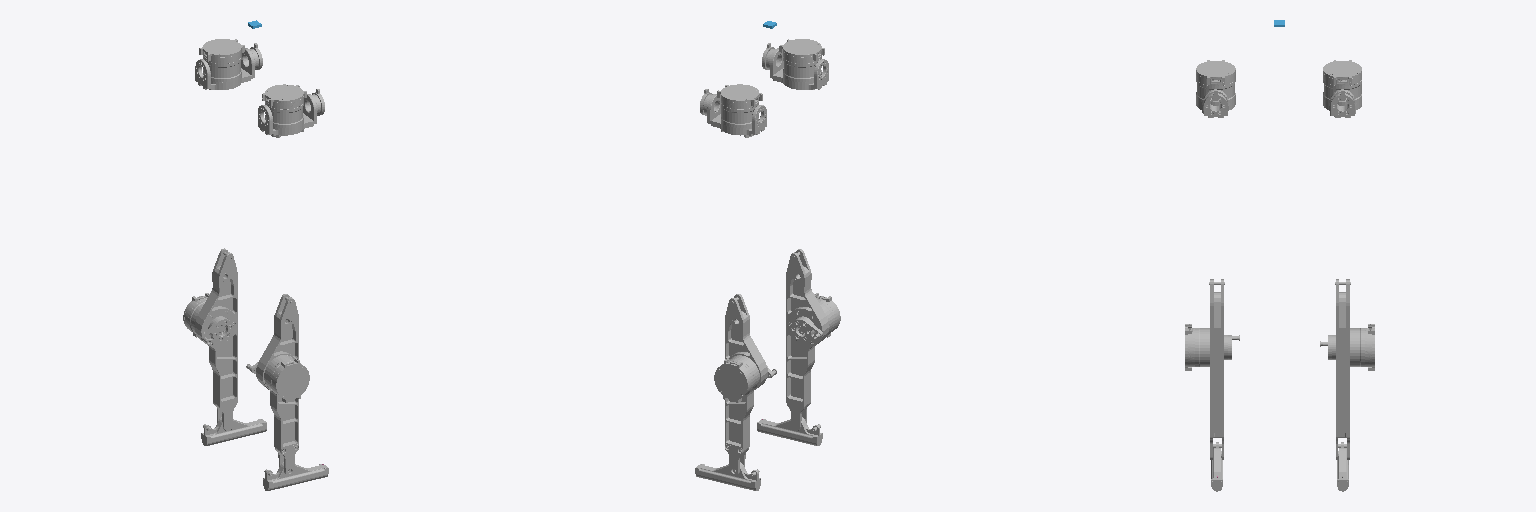
--- Render facts (derived) ---
Views: 3 orthographic renders of the robot side by side, from view 1: azimuth 30°, elevation 25°; view 2: azimuth 150°, elevation 25°; view 3: azimuth 270°, elevation 25°.
Model hunter with 16 links and 15 joints (10 revolute, 5 fixed), rooted at base_link, posed all joints at 0.
Visible links, largest first — view 1: leg_l4_link, leg_r4_link, leg_r1_link, leg_l1_link, leg_l5_link, leg_r5_link; view 2: leg_r4_link, leg_l4_link, leg_l1_link, leg_r1_link, leg_r5_link, leg_l5_link; view 3: leg_l4_link, leg_r4_link, leg_r1_link, leg_l1_link.
Link boxes in pixels (bbox=[...]): leg_l4_link: bbox=[183, 248, 237, 430]; leg_r4_link: bbox=[246, 294, 309, 475]; leg_r1_link: bbox=[258, 84, 324, 137]; leg_l1_link: bbox=[195, 39, 262, 89]; leg_l5_link: bbox=[201, 417, 266, 445]; leg_r5_link: bbox=[263, 462, 328, 490]; leg_r4_link: bbox=[786, 249, 840, 430]; leg_l4_link: bbox=[714, 294, 776, 475]; leg_l1_link: bbox=[700, 84, 766, 137]; leg_r1_link: bbox=[762, 39, 828, 89]; leg_r5_link: bbox=[757, 417, 822, 445]; leg_l5_link: bbox=[695, 462, 760, 490]; leg_l4_link: bbox=[1320, 279, 1374, 459]; leg_r4_link: bbox=[1185, 279, 1239, 459]; leg_r1_link: bbox=[1196, 60, 1235, 117]; leg_l1_link: bbox=[1323, 60, 1361, 117].
Bounding box of the posed robot: 0.115 × 0.269 × 0.7028 m (x, y, z).
6 mesh visuals loaded from 11 distinct referenced files (6 binary STL); not drawn: 5 (reference not matched to a file when rendering).

URDF robot description (hunter):
<?xml version="1.0" encoding="utf-8"?>
<robot name="hunter">

  <!-- <link name="world" />
  <joint name ="weld" type="fixed">
    <parent link="world"/>
    <child link="base_link"/>
    <origin xyz="0 0 0.1"/>
  </joint> -->

  <gazebo>
    <plugin name="gazebo_ros_control" filename="libhunter_bipedal_hw_sim.so">
      <robotNamespace>/</robotNamespace>
      <robotParam>legged_robot_description</robotParam>
      <robotSimType>legged_gazebo/LeggedHWSim</robotSimType>
    </plugin>
  </gazebo>

  <gazebo>
    <plugin filename="libgazebo_ros_p3d.so" name="p3d_base_controller">
      <alwaysOn>true</alwaysOn>
      <updateRate>500.0</updateRate>
      <bodyName>base_link</bodyName>
      <topicName>ground_truth/state</topicName>
      <gaussianNoise>0</gaussianNoise>
      <frameName>world</frameName>
      <xyzOffsets>0 0 0</xyzOffsets>
      <rpyOffsets>0 0 0</rpyOffsets>
    </plugin>
  </gazebo>

  <link name="base_link">
    <inertial>
      <origin xyz="-0.010856 -0.000068 -0.007128" rpy="0 0 0" />
      <mass value="5.673631" />  
      <inertia ixx="0.034403" ixy="0.000004" ixz="-0.002587" iyy="0.029652" iyz="0.000024" izz="0.029462" />
    </inertial>
    <visual>
      <origin xyz="0 0 0" rpy="0 0 0" />
      <geometry>
        <mesh 
        filename="package://legged_hunter_description/meshes/base_link.STL" />
      </geometry>
      <material name="">
        <color rgba="0.75294 0.75294 0.75294 1" />
      </material>
    </visual>
    <collision>
      <origin xyz="-0.01 0 -0.006" rpy="0 0 0" />
      <geometry>
        <box size="0.184 0.15 0.2" /><!--宽 长 高!-->
      </geometry>
    </collision>
  </link>

  <!-- Imu is fixed to the base link -->
  <joint name="imu_joint" type="fixed">
    <origin rpy="0. 0. 0." xyz="0. 0. 0"/>
    <parent link="base_link"/>
    <child link="imu_link"/>
  </joint>
  <!-- Imu link -->
  <link name="imu_link">
    <inertial>
      <mass value="0.01"/>
      <origin rpy="0 0 0" xyz="0 0 0"/>
      <inertia ixx="0.000001" ixy="0" ixz="0" iyy="0.000001" iyz="0" izz="0.000001"/>
    </inertial>
    <visual>
      <origin rpy="0 0 0" xyz="0 0 0"/>
      <geometry>
        <box size="0.015 0.015 0.004"/>
      </geometry>
    </visual>
    <material name="orange">
      <color rgba="255 108 10 255"/>
    </material>
  </link>
  <gazebo reference="imu_joint">
    <disableFixedJointLumping>true</disableFixedJointLumping>
  </gazebo>

  <!-- ************************************************************ -->
  <!-- ************************ Left Leg ************************** -->
  <!-- ************************************************************ -->

  <!-- ************* part 1 *************** -->
  <joint name="leg_l1_joint" type="revolute">
    <origin xyz="-0.002 0.09 -0.1035" rpy="0 0 0" />
    <parent link="base_link" />
    <child link="leg_l1_link" />
    <axis xyz="1 0 0" />
    <dynamics damping="0.00" friction="0.2"/>
    <limit lower="-0.2" upper="0.5" effort="23.7" velocity="30.1" />
  </joint>
  <link name="leg_l1_link">
    <inertial>
      <origin xyz="0.002501 0.000053 -0.002722" rpy="0 0 0" />
      <mass value="0.453728" />
      <inertia ixx="0.000082" ixy="0.000000" ixz="0.000003" iyy="0.000163" iyz="0.000001" izz="0.000147" />
    </inertial>
    <visual>
      <origin xyz="0 0 0" rpy="0 0 0" />
      <geometry>
        <mesh filename="package://legged_hunter_description/meshes/leg_l1_link.STL" />
      </geometry>
      <material name="">
        <color rgba="0.75294 0.75294 0.75294 1" />
      </material>
    </visual>
    <collision>
      <origin xyz="-0.019 -0.001 0" rpy="1.57 0 1.57" />
      <geometry>
        <box size="0.06 0.07 0.155" />
      </geometry>
    </collision>
  </link>

  <!-- ************* part 2 *************** -->
  <joint name="leg_l2_joint" type="revolute">
    <origin xyz="0 -0.00016972 -0.0325" rpy="0 0 0" />
    <parent link="leg_l1_link" />
    <child link="leg_l2_link" />
    <axis xyz="0 0 1" />
    <dynamics damping="0.00" friction="0.2"/>
    <limit lower="-0.5" upper="1" effort="23.7" velocity="30.1" />
  </joint>
  <link name="leg_l2_link">
    <inertial>
     <origin xyz="-0.000273 0.043826 -0.058639" rpy="0 0 0" />
      <mass value="0.925998" />
      <inertia ixx="0.001239" ixy="0.000004" ixz="0.000000" iyy="0.001646" iyz="0.000103" izz="0.001094" />
    </inertial>
    <visual>
      <origin xyz="0 0 0" rpy="0 0 0" />
      <geometry>
        <mesh filename="package://legged_hunter_description/meshes/leg_l2_link.STL" />
      </geometry>
      <material name="">
        <color rgba="0.75294 0.75294 0.75294 1" />
      </material>
    </visual>
    <collision>
      <origin xyz="0 0.0046 -0.057" rpy="1.57 0 0" />
      <geometry>
        <cylinder length="0.146" radius="0.065"/>
      </geometry>
    </collision>
  </link>

  <!-- ************* part 3 *************** -->
  <joint name="leg_l3_joint" type="revolute">
    <origin xyz="0 -0.01433 -0.0575" rpy="0 0 0" />
    <parent link="leg_l2_link" />
    <child link="leg_l3_link" />
    <axis xyz="0 -1 0" />
    <dynamics damping="0.00" friction="0.2"/>
    <limit lower="-0.8" upper="1.2" effort="23.7" velocity="30.1" />
  </joint>
  <link name="leg_l3_link">
    <inertial>
     <origin xyz="0.003163 -0.022552 -0.027258" rpy="0 0 0" />
      <mass value="1.390468" />
      <inertia ixx="0.006911" ixy="-0.000091" ixz="0.000427" iyy="0.007083" iyz="0.000844" izz="0.001984" />
    </inertial>
    <visual>
      <origin xyz="0 0 0" rpy="0 0 0" />
      <geometry>
        <mesh filename="package://legged_hunter_description/meshes/leg_l3_link.STL" />
      </geometry>
      <material name="">
        <color rgba="0.75294 0.75294 0.75294 1" />
      </material>
    </visual>
    <collision>
      <origin xyz="0.015 0.02 -0.1" rpy="1.57 0 0" />
      <geometry>
        <box size="0.06 0.25 0.05" />
      </geometry>
    </collision>
  </link>

  <!-- ************* part 4 *************** -->
  <joint name="leg_l4_joint" type="revolute">
    <origin xyz="0 0.0145 -0.24" rpy="0 0 0" />
    <parent link="leg_l3_link" />
    <child link="leg_l4_link" />
    <axis xyz="0 1 0" />
    <dynamics damping="0.00" friction="0.2"/>
    <limit lower="0" upper="1.5" effort="23.7" velocity="30.1" />
  </joint>
  <link name="leg_l4_link">
    <inertial>
      <origin xyz="-0.012044 0.006361 -0.093905" rpy="0 0 0" />
      <mass value="0.649518" />
      <inertia ixx="0.002176" ixy="-0.000020" ixz="-0.000273" iyy="0.002460" iyz="-0.000095" izz="0.000478" />
    </inertial>
    <visual>
      <origin xyz="0 0 0" rpy="0 0 0" />
      <geometry>
        <mesh filename="package://legged_hunter_description/meshes/leg_l4_link.STL" />
      </geometry>
      <material name="">
        <color rgba="0.75294 0.75294 0.75294 1" />
      </material>
    </visual>
    <collision>
      <origin xyz="0 0 -0.105" rpy="1.57 0 0" />
      <geometry>
        <box size="0.041 0.25 0.03" />
      </geometry>
    </collision>
    <collision>
      <origin xyz="-0.011 0.012 -0.079" rpy="1.57 0 0" />
      <geometry>
        <cylinder length="0.07" radius="0.034"/>
      </geometry>
    </collision>
  </link>

  <!-- ************* part 5 *************** -->
  <joint name="leg_l5_joint" type="revolute">
    <origin xyz="0.005 0 -0.23995" rpy="0 0 0" />
    <parent link="leg_l4_link" />
    <child link="leg_l5_link" />
    <axis xyz="0 -1 0" />
    <dynamics damping="0.00" friction="0.2"/>
    <limit lower="-1.1" upper="1.1" effort="23.7" velocity="30.1" />
  </joint>
  <link name="leg_l5_link">
    <inertial>
      <origin xyz="0.012435 0.000000 -0.015511" rpy="0 0 0" />
      <mass value="0.030265" />
      <inertia ixx="0.000002" ixy="0.000000" ixz="0.000001" iyy="0.000025" iyz="0.000000" izz="0.000024" />
    </inertial>
    <visual>
      <origin xyz="0 0 0" rpy="0 0 0" />
      <geometry>
        <mesh filename="package://legged_hunter_description/meshes/leg_l5_link.STL" />
      </geometry>
      <material name="">
        <color rgba="0.75294 0.75294 0.75294 1" />
      </material>
    </visual>
    <collision>
      <origin xyz="0.01503 0 -0.0102" rpy="1.57 0 0" />
      <geometry>
        <box size="0.1001 0.0345 0.0175" />
      </geometry>
    </collision>
  </link>

  <joint name="leg_l5_fixed_1" type="fixed">
    <origin xyz="0.06 0 -0.007" rpy="0 0 0" />
    <parent link="leg_l5_link" />
    <child link="leg_l_f1_link" />
  </joint>
  <link name="leg_l_f1_link">
    <inertial>
      <mass value="0.01" />
      <inertia ixx="0.000001" ixy="0" ixz="0" iyy="0.000001" iyz="0" izz="0.000001" />
    </inertial>
    <visual>
      <origin rpy="0 0 0" xyz="0 0 0"/>
      <geometry>
        <sphere radius="0.001"/>
      </geometry>
    </visual>
    <collision>
      <origin rpy="0 0 0" xyz="0 0 0"/>
      <geometry>
        <sphere radius="0.001"/>
      </geometry>
    </collision>
  </link>

  <joint name="leg_l5_fixed_2" type="fixed">
    <origin xyz="-0.030 0 -0.007" rpy="0 0 0" />
    <parent link="leg_l5_link" />
    <child link="leg_l_f2_link" />
  </joint>
  <link name="leg_l_f2_link">
    <inertial>
      <mass value="0.01" />
      <inertia ixx="0.000001" ixy="0" ixz="0" iyy="0.000001" iyz="0" izz="0.000001" />
    </inertial>
    <visual>
      <origin rpy="0 0 0" xyz="0 0 0"/>
      <geometry>
        <sphere radius="0.001"/>
      </geometry>
    </visual>
    <collision>
      <origin rpy="0 0 0" xyz="-0 0 0"/>
      <geometry>
        <sphere radius="0.001"/>
      </geometry>
    </collision>
  </link>

  <gazebo reference="leg_l1_link">
    <mu1>0.6</mu1>
    <mu2>0.6</mu2>
    <self_collide>1</self_collide>
  </gazebo>
  <gazebo reference="leg_l2_link">
    <mu1>0.6</mu1>
    <mu2>0.6</mu2>
    <self_collide>1</self_collide>
  </gazebo>
  <gazebo reference="leg_l3_link">
    <mu1>0.6</mu1>
    <mu2>0.6</mu2>
    <self_collide>1</self_collide>
  </gazebo>
  <gazebo reference="leg_l4_link">
    <mu1>0.6</mu1>
    <mu2>0.6</mu2>
    <self_collide>1</self_collide>
  </gazebo>
  <gazebo reference="leg_l5_link">
    <mu1>1.5</mu1>
    <mu2>1.5</mu2>
    <self_collide>1</self_collide>
    <kp value="1000000.0"/>
    <kd value="100.0"/>
    <maxVel>1.0</maxVel>
    <minDepth>0.00</minDepth>
  </gazebo>
  <gazebo reference="leg_l_f1_link">
    <mu1>1.5</mu1>
    <mu2>1.5</mu2>
    <self_collide>1</self_collide>
    <kp value="1000000.0"/>
    <kd value="100.0"/>
    <maxVel>1.0</maxVel>
    <minDepth>0.00</minDepth>
  </gazebo>
  <gazebo reference="leg_l_f2_link">
    <mu1>1.5</mu1>
    <mu2>1.5</mu2>
    <self_collide>1</self_collide>
    <kp value="1000000.0"/>
    <kd value="100.0"/>
    <maxVel>1.0</maxVel>
    <minDepth>0.00</minDepth>
  </gazebo>

  <transmission name="leg_l1_tran">
    <type>transmission_interface/SimpleTransmission</type>
    <joint name="leg_l1_joint">
      <hardwareInterface>hardware_interface/EffortJointInterface</hardwareInterface>
    </joint>
    <actuator name="leg_l1_motor">
      <hardwareInterface>hardware_interface/EffortJointInterface</hardwareInterface>
      <mechanicalReduction>1</mechanicalReduction>
    <maxVelocity>1.484</maxVelocity><!-- 85rpm -->
	  <maxEffort>36.0</maxEffort><!-- 36Nm -->
    </actuator>
  </transmission>

  <transmission name="leg_l2_tran">
    <type>transmission_interface/SimpleTransmission</type>
    <joint name="leg_l2_joint">
      <hardwareInterface>hardware_interface/EffortJointInterface</hardwareInterface>
    </joint>
    <actuator name="leg_l2_motor">
      <hardwareInterface>hardware_interface/EffortJointInterface</hardwareInterface>
      <mechanicalReduction>1</mechanicalReduction>
    <maxVelocity>2.6545</maxVelocity><!-- 160rpm -->
	  <maxEffort>94.0</maxEffort><!-- 94Nm -->
    </actuator>
  </transmission>

  <transmission name="leg_l3_tran">
    <type>transmission_interface/SimpleTransmission</type>
    <joint name="leg_l3_joint">
      <hardwareInterface>hardware_interface/EffortJointInterface</hardwareInterface>
    </joint>
    <actuator name="leg_l3_motor">
      <hardwareInterface>hardware_interface/EffortJointInterface</hardwareInterface>
      <mechanicalReduction>1</mechanicalReduction>
    <maxVelocity>2.6545</maxVelocity><!-- 160rpm -->
	  <maxEffort>94.0</maxEffort><!-- 94Nm -->
    </actuator>
  </transmission>

  <transmission name="leg_l4_tran">
    <type>transmission_interface/SimpleTransmission</type>
    <joint name="leg_l4_joint">
      <hardwareInterface>hardware_interface/EffortJointInterface</hardwareInterface>
    </joint>
    <actuator name="leg_l4_motor">
      <hardwareInterface>hardware_interface/EffortJointInterface</hardwareInterface>
      <mechanicalReduction>1</mechanicalReduction>
    <maxVelocity>1.484</maxVelocity><!-- 85rpm -->
	<maxEffort>36.0</maxEffort><!-- 36Nm -->
    </actuator>
  </transmission>

  <transmission name="leg_l5_tran">
    <type>transmission_interface/SimpleTransmission</type>
    <joint name="leg_l5_joint">
      <hardwareInterface>hardware_interface/EffortJointInterface</hardwareInterface>
    </joint>
    <actuator name="leg_l5_motor">
      <hardwareInterface>hardware_interface/EffortJointInterface</hardwareInterface>
      <mechanicalReduction>1</mechanicalReduction>
    </actuator>
  </transmission>
  <!-- ************************************************************ -->
  <!-- ************************ Right Leg ************************** -->
  <!-- ************************************************************ -->

  <!-- ************* part 1 *************** -->
  <joint name="leg_r1_joint" type="revolute">
    <origin xyz="-0.002 -0.09 -0.1035" rpy="0 0 0" />
    <parent link="base_link" />
    <child link="leg_r1_link" />
    <axis xyz="1 0 0" />
    <dynamics damping="0.00" friction="0.2"/>
    <limit lower="-0.5" upper="0.2" effort="23.7" velocity="30.1" />
  </joint>
  <link name="leg_r1_link">
    <inertial>
      <origin xyz="0.002501 -0.000053 -0.002722" rpy="0 0 0" />
      <mass value="0.453728" />
      <inertia ixx="0.000082" ixy="0.000000" ixz="0.000003" iyy="0.000163" iyz="-0.000001" izz="0.000147" />
    </inertial>
    <visual>
      <origin xyz="0 0 0" rpy="0 0 0" />
      <geometry>
        <mesh filename="package://legged_hunter_description/meshes/leg_r1_link.STL" />
      </geometry>
      <material name="">
        <color rgba="0.75294 0.75294 0.75294 1" />
      </material>
    </visual>
    <collision>
      <origin xyz="-0.019 -0.001 0" rpy="1.57 0 1.57" />
      <geometry>
        <box size="0.06 0.07 0.155" />
      </geometry>
    </collision>
  </link>

  <!-- ************* part 2 *************** -->
  <joint name="leg_r2_joint" type="revolute">
    <origin xyz="0 0.00016972 -0.0325" rpy="0 0 0" />
    <parent link="leg_r1_link" />
    <child link="leg_r2_link" />
    <axis xyz="0 0 1" />
    <dynamics damping="0.00" friction="0.2"/>
    <limit lower="-1" upper="0.5" effort="23.7" velocity="30.1" />
  </joint>
  <link name="leg_r2_link">
    <inertial>
     <origin xyz="0.000090 -0.043826 -0.058639" rpy="0 0 0" />
      <mass value="0.925998" />
      <inertia ixx="0.001239" ixy="0.000004" ixz="0.000000" iyy="0.001646" iyz="0.000103" izz="0.001094" />
    </inertial>
    <visual>
      <origin xyz="0 0 0" rpy="0 0 0" />
      <geometry>
        <mesh filename="package://legged_hunter_description/meshes/leg_r2_link.STL" />
      </geometry>
      <material name="">
        <color rgba="0.75294 0.75294 0.75294 1" />
      </material>
    </visual>
    <collision>
      <origin xyz="0 -0.0033 -0.057" rpy="1.57 0 0" />
      <geometry>
        <cylinder length="0.146" radius="0.065"/>
      </geometry>
    </collision>
  </link>

  <!-- ************* part 3 *************** -->
  <joint name="leg_r3_joint" type="revolute">
    <origin xyz="0 0.01633 -0.0575" rpy="0 0 0" />
    <parent link="leg_r2_link" />
    <child link="leg_r3_link" />
    <axis xyz="0 1 0" />
    <dynamics damping="0.00" friction="0.2"/>
    <limit lower="-1.2" upper="0.8" effort="23.7" velocity="30.1" />
  </joint>
  <link name="leg_r3_link">
    <inertial>
     <origin xyz="0.003311 0.022650 -0.027271" rpy="0 0 0" />
      <mass value="1.388625" />
      <inertia ixx="0.006909" ixy="0.000095" ixz="0.000421" iyy="0.007083" iyz="-0.000850" izz="0.001984" />
    </inertial>
    <visual>
      <origin xyz="0 0 0" rpy="0 0 0" />
      <geometry>
        <mesh filename="package://legged_hunter_description/meshes/leg_r3_link.STL" />
      </geometry>
      <material name="">
        <color rgba="0.75294 0.75294 0.75294 1" />
      </material>
    </visual>
    <collision>
      <origin xyz="0.015 -0.02 -0.1" rpy="1.57 0 0" />
      <geometry>
        <box size="0.06 0.25 0.05" />
      </geometry>
    </collision>
  </link>

  <!-- ************* part 4 *************** -->
  <joint name="leg_r4_joint" type="revolute">
    <origin xyz="0 -0.0145 -0.24" rpy="0 0 0" />
    <parent link="leg_r3_link" />
    <child link="leg_r4_link" />
   <axis xyz="0 1 0" />
   <dynamics damping="0.00" friction="0.2"/>
    <limit lower="0" upper="1.5" effort="23.7" velocity="30.1" />
  </joint>
  <link name="leg_r4_link">
    <inertial>
       <origin xyz="-0.007886 -0.007123 -0.088091" rpy="0 0 0" />
      <mass value="0.614720" />
      <inertia ixx="0.001761" ixy="-0.000006" ixz="0.000012" iyy="0.001774" iyz="0.000063" izz="0.000186" />
    </inertial>
    <visual>
      <origin xyz="0 0 0" rpy="0 0 0" />
      <geometry>
        <mesh filename="package://legged_hunter_description/meshes/leg_r4_link.STL" />
      </geometry>
      <material name="">
        <color rgba="0.75294 0.75294 0.75294 1" />
      </material>
    </visual>
    <collision>
      <origin xyz="0 0 -0.105" rpy="1.57 0 0" />
      <geometry>
        <box size="0.041 0.25 0.03" />
      </geometry>
    </collision>
    <collision>
      <origin xyz="-0.011 -0.012 -0.079" rpy="1.57 0 0" />
      <geometry>
        <cylinder length="0.07" radius="0.034"/>
      </geometry>
    </collision>
  </link>

  <!-- ************* part 5 *************** -->
  <joint name="leg_r5_joint" type="revolute">
    <origin xyz="0.005 0 -0.23995" rpy="0 0 0" />
    <parent link="leg_r4_link" />
    <child link="leg_r5_link" />
    <axis xyz="0 1 0" />
    <dynamics damping="0.00" friction="0.2"/>
    <limit lower="-1.1" upper="1.1" effort="23.7" velocity="30.1" />
  </joint>
  <link name="leg_r5_link">
    <inertial>
      <origin xyz="0.012435 -0.000500 -0.015511" rpy="0 0 0" />
      <mass value="0.030265" />
      <inertia ixx="0.000002" ixy="0.000000" ixz="0.000001" iyy="0.000025" iyz="0.000000" izz="0.000024" />
    </inertial>
    <visual>
      <origin xyz="0 0 0" rpy="0 0 0" />
      <geometry>
        <mesh filename="package://legged_hunter_description/meshes/leg_r5_link.STL" />
      </geometry>
      <material name="">
        <color rgba="0.75294 0.75294 0.75294 1" />
      </material>
    </visual>
    <collision>
      <origin xyz="0.01503 0 -0.0102" rpy="1.57 0 0" />
      <geometry>
        <box size="0.1001 0.0345 0.0175" />
        </geometry>
    </collision>
  </link>

  <joint name="leg_r5_fixed_1" type="fixed">
    <origin xyz="0.06 0 -0.007" rpy="0 0 0" />
    <parent link="leg_r5_link" />
    <child link="leg_r_f1_link" />
  </joint>
  <link name="leg_r_f1_link">
    <inertial>
      <mass value="0.01" />
      <inertia ixx="0.000001" ixy="0" ixz="0" iyy="0.000001" iyz="0" izz="0.000001" />
    </inertial>
    <visual>
      <origin rpy="0 0 0" xyz="0 0 0"/>
      <geometry>
        <sphere radius="0.001"/>
      </geometry>
    </visual>
    <collision>
      <origin rpy="0 0 0" xyz="0 0 0"/>
      <geometry>
        <sphere radius="0.001"/>
      </geometry>
    </collision>
  </link>

  <joint name="leg_r5_fixed_2" type="fixed">
    <origin xyz="-0.030 0 -0.007" rpy="0 0 0" />
    <parent link="leg_r5_link" />
    <child link="leg_r_f2_link" />
  </joint>
  <link name="leg_r_f2_link">
    <inertial>
      <mass value="0.01" />
      <inertia ixx="0.000001" ixy="0" ixz="0" iyy="0.000001" iyz="0" izz="0.000001" />
    </inertial>
    <visual>
      <origin rpy="0 0 0" xyz="0 0 0"/>
      <geometry>
        <sphere radius="0.001"/>
      </geometry>
    </visual>
    <collision>
      <origin rpy="0 0 0" xyz="0 0 0"/>
      <geometry>
        <sphere radius="0.001"/>
      </geometry>
    </collision>
  </link>

  <gazebo reference="leg_r1_link">
    <mu1>0.6</mu1>
    <mu2>0.6</mu2>
    <self_collide>1</self_collide>
  </gazebo>
  <gazebo reference="leg_r2_link">
    <mu1>0.6</mu1>
    <mu2>0.6</mu2>
    <self_collide>1</self_collide>
  </gazebo>
  <gazebo reference="leg_r3_link">
    <mu1>0.6</mu1>
    <mu2>0.6</mu2>
    <self_collide>1</self_collide>
  </gazebo>
  <gazebo reference="leg_r4_link">
    <mu1>0.6</mu1>
    <mu2>0.6</mu2>
    <self_collide>1</self_collide>
  </gazebo>
  <gazebo reference="leg_r5_link">
    <mu1>1.5</mu1>
    <mu2>1.5</mu2>
    <self_collide>1</self_collide>
    <kp value="1000000.0"/>
    <kd value="100.0"/>
    <maxVel>1.0</maxVel>
    <minDepth>0.00</minDepth>
  </gazebo>
  <gazebo reference="leg_r_f1_link">
    <mu1>1.5</mu1>
    <mu2>1.5</mu2>
    <self_collide>1</self_collide>
    <kp value="1000000.0"/>
    <kd value="100.0"/>
    <maxVel>1.0</maxVel>
    <minDepth>0.00</minDepth>
  </gazebo>
  <gazebo reference="leg_r_f2_link">
    <mu1>1.5</mu1>
    <mu2>1.5</mu2>
    <self_collide>1</self_collide>
    <kp value="1000000.0"/>
    <kd value="100.0"/>
    <maxVel>1.0</maxVel>
    <minDepth>0.00</minDepth>
  </gazebo>

  <transmission name="leg_r1_tran">
    <type>transmission_interface/SimpleTransmission</type>
    <joint name="leg_r1_joint">
      <hardwareInterface>hardware_interface/EffortJointInterface</hardwareInterface>
    </joint>
    <actuator name="leg_r1_motor">
      <hardwareInterface>hardware_interface/EffortJointInterface</hardwareInterface>
      <mechanicalReduction>1</mechanicalReduction>
      	  <maxVelocity>1.484</maxVelocity><!-- 85rpm -->
	<maxEffort>36.0</maxEffort><!-- 36Nm -->
    </actuator>
  </transmission>

  <transmission name="leg_r2_tran">
    <type>transmission_interface/SimpleTransmission</type>
    <joint name="leg_r2_joint">
      <hardwareInterface>hardware_interface/EffortJointInterface</hardwareInterface>
    </joint>
    <actuator name="leg_r2_motor">
      <hardwareInterface>hardware_interface/EffortJointInterface</hardwareInterface>
      <mechanicalReduction>1</mechanicalReduction>
      	  <maxVelocity>2.6545</maxVelocity><!-- 160rpm -->
	  <maxEffort>94.0</maxEffort><!-- 94Nm -->
    </actuator>
  </transmission>

  <transmission name="leg_r3_tran">
    <type>transmission_interface/SimpleTransmission</type>
    <joint name="leg_r3_joint">
      <hardwareInterface>hardware_interface/EffortJointInterface</hardwareInterface>
    </joint>
    <actuator name="leg_r3_motor">
      <hardwareInterface>hardware_interface/EffortJointInterface</hardwareInterface>
      <mechanicalReduction>1</mechanicalReduction>
      	  <maxVelocity>2.6545</maxVelocity><!-- 160rpm -->
	  <maxEffort>94.0</maxEffort><!-- 94Nm -->
    </actuator>
  </transmission>

  <transmission name="leg_r4_tran">
    <type>transmission_interface/SimpleTransmission</type>
    <joint name="leg_r4_joint">
      <hardwareInterface>hardware_interface/EffortJointInterface</hardwareInterface>
    </joint>
    <actuator name="leg_r4_motor">
      <hardwareInterface>hardware_interface/EffortJointInterface</hardwareInterface>
      <mechanicalReduction>1</mechanicalReduction>
      	  <maxVelocity>1.484</maxVelocity><!-- 85rpm -->
	<maxEffort>36.0</maxEffort><!-- 36Nm -->
    </actuator>
  </transmission>

  <transmission name="leg_r5_tran">
    <type>transmission_interface/SimpleTransmission</type>
    <joint name="leg_r5_joint">
      <hardwareInterface>hardware_interface/EffortJointInterface</hardwareInterface>
    </joint>
    <actuator name="leg_r5_motor">
      <hardwareInterface>hardware_interface/EffortJointInterface</hardwareInterface>
      <mechanicalReduction>1</mechanicalReduction>
    </actuator>
  </transmission>

</robot>
